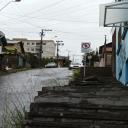NoSeguir: (82, 42, 90, 49)
